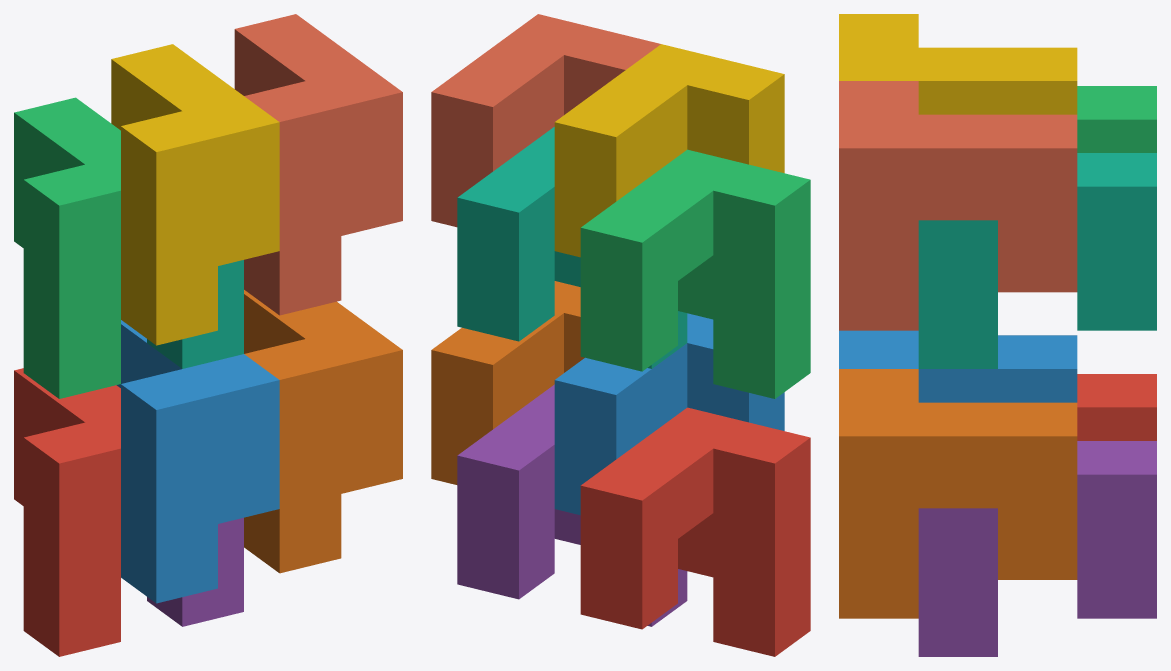
The model's file is tiling.obj.
3 views of the same model, side by side, from view 1: azimuth 30°, elevation 25°; view 2: azimuth 150°, elevation 25°; view 3: azimuth 270°, elevation 25° (orthographic). The views are drawn at different scales.
Parts seen in each view (by area): view 1: copy_1_domain_4, copy_1_domain_2, copy_1_domain_8, copy_1_domain_6, copy_1_domain_3, copy_1_domain_1, copy_1_domain_5, copy_1_domain_7; view 2: copy_1_domain_1, copy_1_domain_3, copy_1_domain_4, copy_1_domain_8, copy_1_domain_7, copy_1_domain_5, copy_1_domain_2, copy_1_domain_6; view 3: copy_1_domain_8, copy_1_domain_6, copy_1_domain_5, copy_1_domain_7, copy_1_domain_4, copy_1_domain_2, copy_1_domain_1, copy_1_domain_3.
Part boxes in pixels (left/top/right/bottom): copy_1_domain_4: left=111, top=44, right=279, bottom=345; copy_1_domain_2: left=116, top=320, right=279, bottom=603; copy_1_domain_8: left=234, top=14, right=402, bottom=315; copy_1_domain_6: left=244, top=290, right=402, bottom=573; copy_1_domain_3: left=14, top=97, right=120, bottom=398; copy_1_domain_1: left=14, top=368, right=120, bottom=656; copy_1_domain_5: left=147, top=517, right=243, bottom=626; copy_1_domain_7: left=147, top=260, right=243, bottom=368; copy_1_domain_1: left=580, top=407, right=810, bottom=656; copy_1_domain_3: left=580, top=149, right=810, bottom=398; copy_1_domain_4: left=554, top=44, right=784, bottom=257; copy_1_domain_8: left=431, top=14, right=660, bottom=227; copy_1_domain_7: left=457, top=127, right=687, bottom=368; copy_1_domain_5: left=457, top=384, right=687, bottom=626; copy_1_domain_2: left=554, top=313, right=784, bottom=515; copy_1_domain_6: left=431, top=281, right=584, bottom=484; copy_1_domain_8: left=839, top=81, right=1077, bottom=330; copy_1_domain_6: left=839, top=369, right=1077, bottom=618; copy_1_domain_5: left=918, top=441, right=1156, bottom=656; copy_1_domain_7: left=918, top=153, right=1156, bottom=368; copy_1_domain_4: left=839, top=14, right=1077, bottom=114; copy_1_domain_2: left=839, top=330, right=1077, bottom=402; copy_1_domain_1: left=1077, top=374, right=1156, bottom=440; copy_1_domain_3: left=1077, top=86, right=1156, bottom=152.
Bounding box in the file's own units: 5 × 8 × 4.
